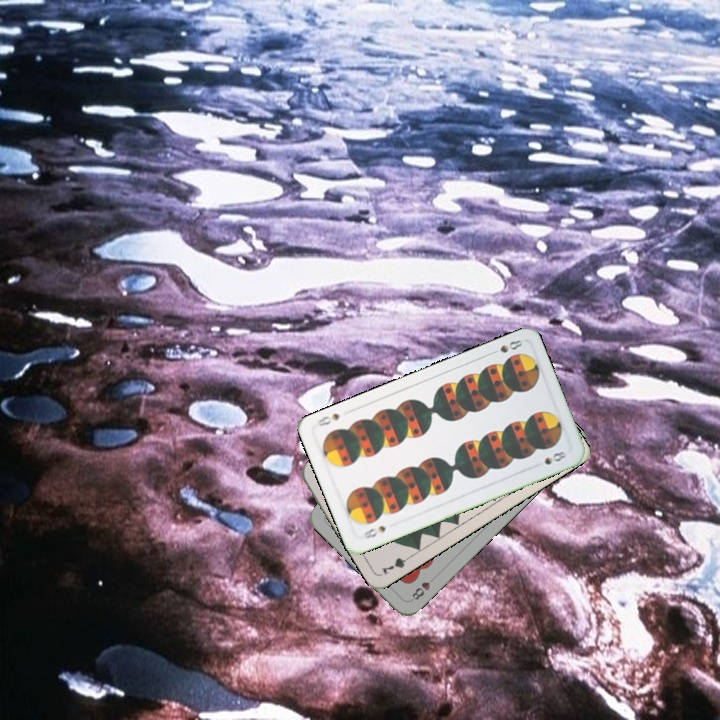G7: (377, 550, 415, 577)
H8: (408, 571, 439, 603)
S8: (486, 335, 525, 358), (359, 521, 389, 541)
